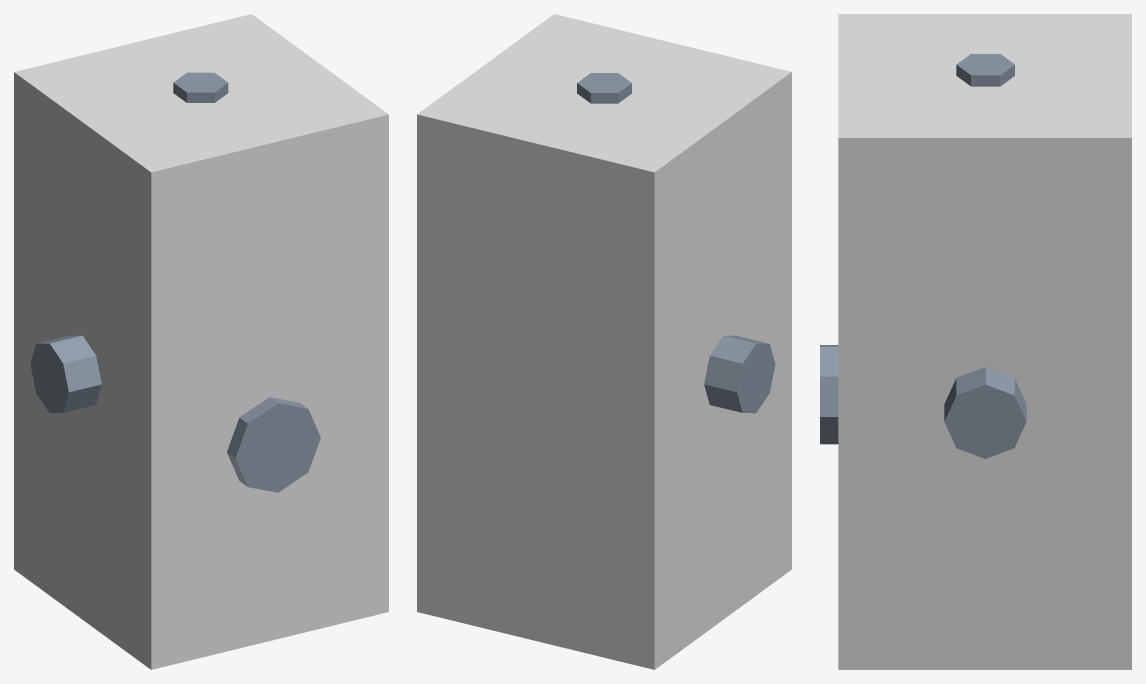
File: prop_hydrant_a.glb
3 renders of one model, left to right at view 1: azimuth 30°, elevation 25°; view 2: azimuth 150°, elevation 25°; view 3: azimuth 270°, elevation 25°, orthographic. The views are drawn at different scales.
Parts seen in each view (by area): view 1: COL_prop_hydrant_a_1, prop_hydrant_a; view 2: COL_prop_hydrant_a_1, prop_hydrant_a; view 3: COL_prop_hydrant_a_1, prop_hydrant_a.
Part boxes in pixels (x1,y1,x2,y2): COL_prop_hydrant_a_1: (14,14,388,669); prop_hydrant_a: (30,72,320,492); COL_prop_hydrant_a_1: (417,14,791,669); prop_hydrant_a: (577,73,775,413); COL_prop_hydrant_a_1: (838,14,1131,669); prop_hydrant_a: (820,54,1026,458).
Size of the model in its own units: 0.6405 by 1.02 by 0.5313.
